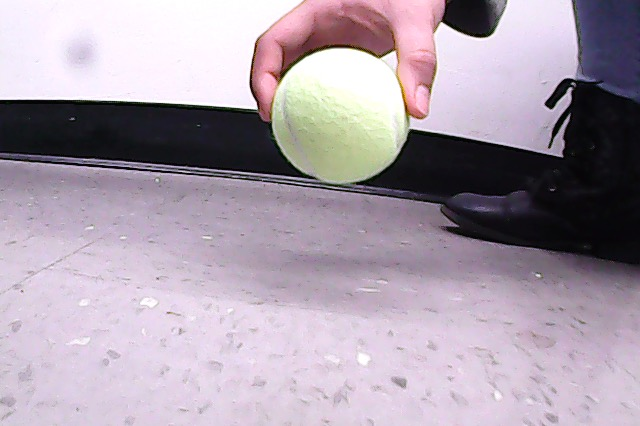ball: (269, 46, 414, 188)
